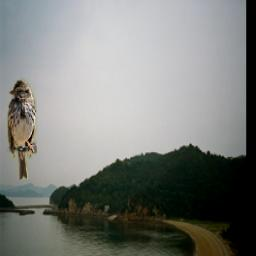Sparrow: (6, 78, 37, 179)
